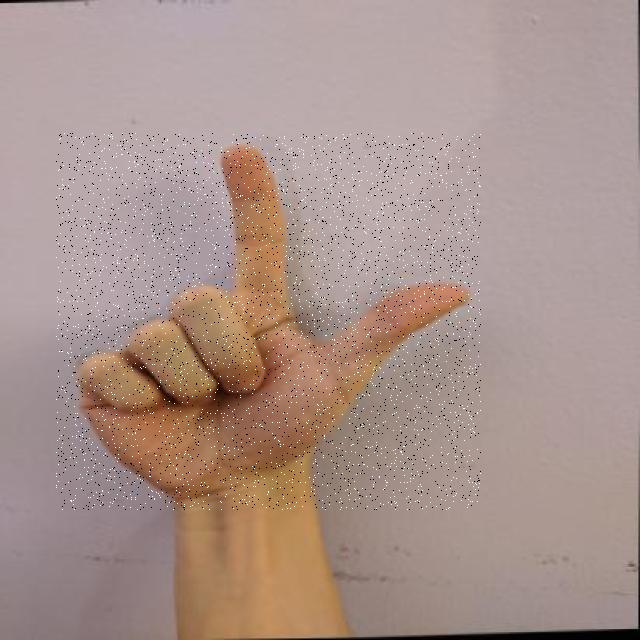L: (56, 133, 481, 510)
